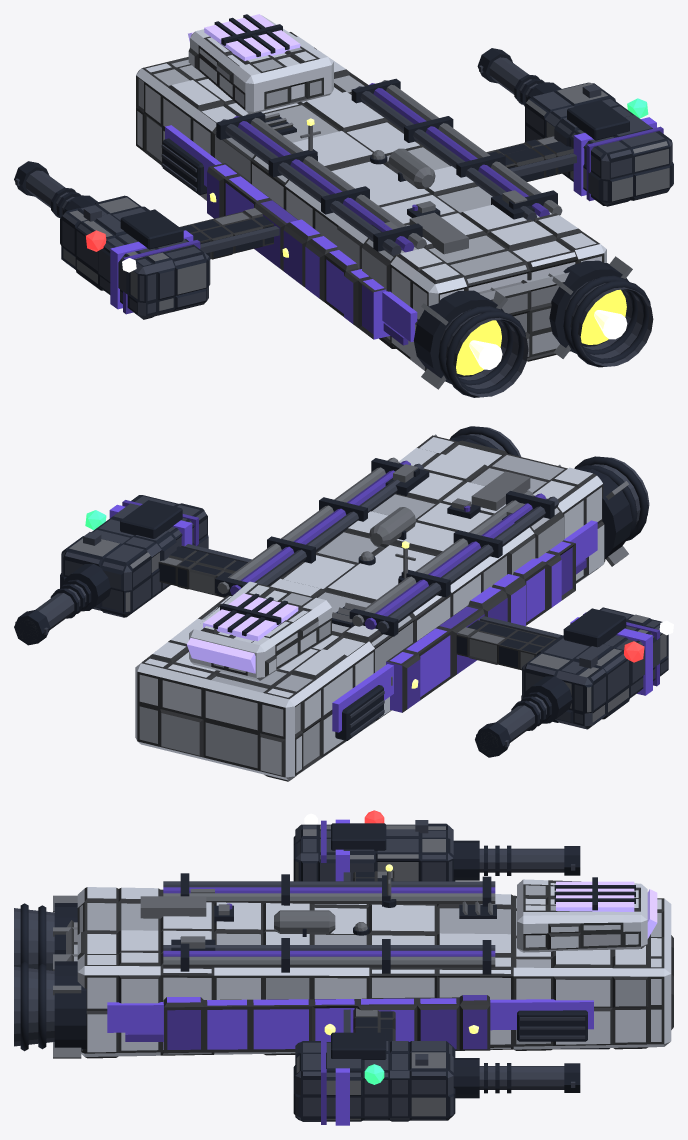
File: lancer.glb
3 renders of one model, top to bottom at view 1: azimuth 30°, elevation 25°; view 2: azimuth 150°, elevation 25°; view 3: azimuth 270°, elevation 25°, orthographic. The views are drawn at different scales.
Visible parts, largest first — view 1: lancer_mesh; view 2: lancer_mesh; view 3: lancer_mesh.
Boxes of the visible parts, x1,y1,x2,y2 form: lancer_mesh: (14,14,673,397); lancer_mesh: (14,426,668,781); lancer_mesh: (14,810,673,1125).
Bounding box in the file's own units: 8.64 × 2.16 × 9.17.
